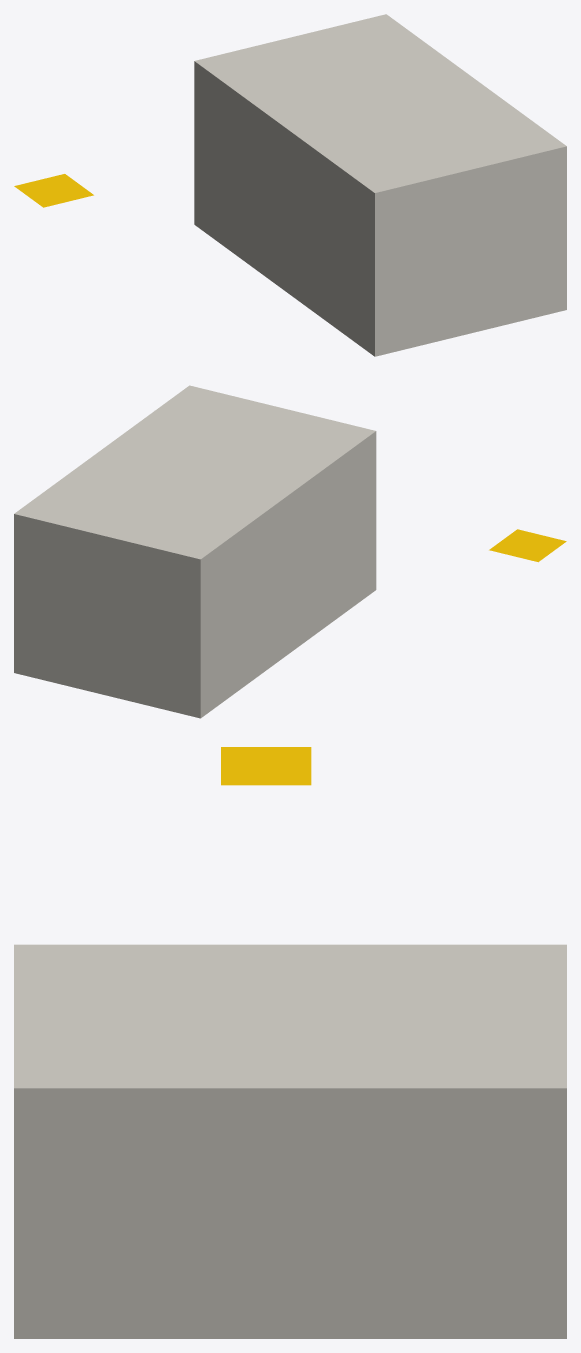
Rendered from env0.dae.
3 renders of one model, top to bottom at view 1: azimuth 30°, elevation 25°; view 2: azimuth 150°, elevation 25°; view 3: azimuth 270°, elevation 25°, orthographic. The views are drawn at different scales.
Parts seen in each view (by area): view 1: base (×2); view 2: base (×2); view 3: base (×2).
Boxes of the visible parts, x1,y1,x2,y2 form: base (×2): [14, 14, 566, 356]; base (×2): [14, 385, 566, 718]; base (×2): [14, 747, 566, 1338].
Size of the model in its own units: 1.34 by 0.92 by 0.461.
